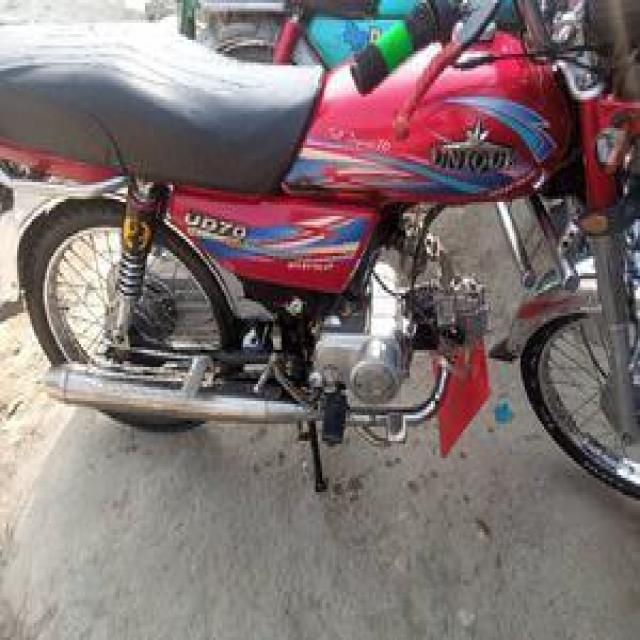motorcycle: (2, 1, 640, 525)
